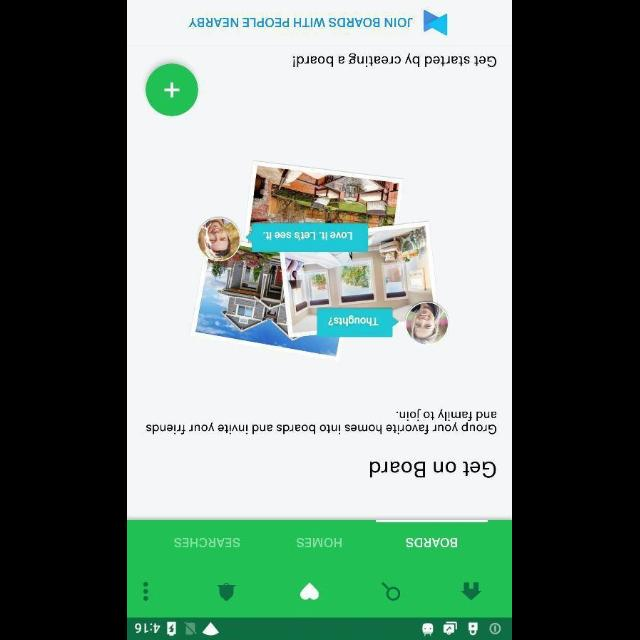button: (146, 64, 200, 116)
icon: (300, 582, 320, 600), (217, 582, 237, 600), (462, 582, 482, 600), (382, 582, 401, 600), (144, 582, 148, 600)
image: (193, 160, 452, 360), (424, 9, 448, 35)
text: (147, 408, 498, 434), (294, 53, 498, 67), (370, 460, 498, 478), (189, 17, 413, 27), (174, 537, 242, 547), (406, 537, 458, 547), (296, 537, 342, 547)
uppertaskbar: (128, 617, 512, 639)
